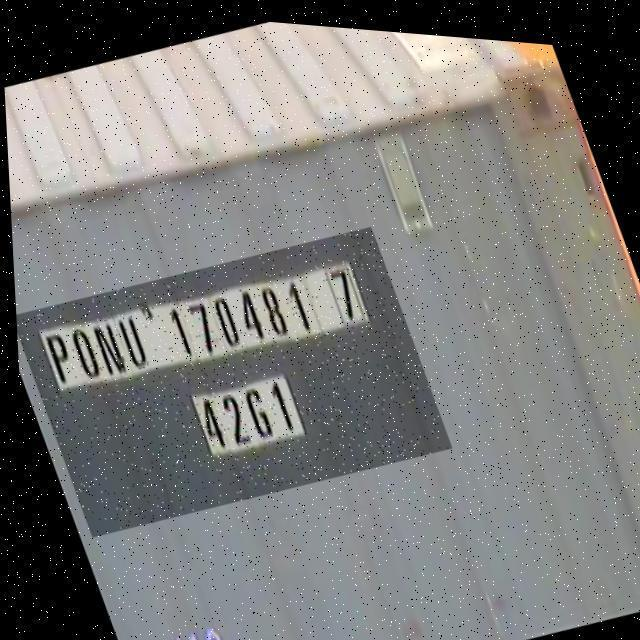container_number_h: (8, 197, 453, 560)
